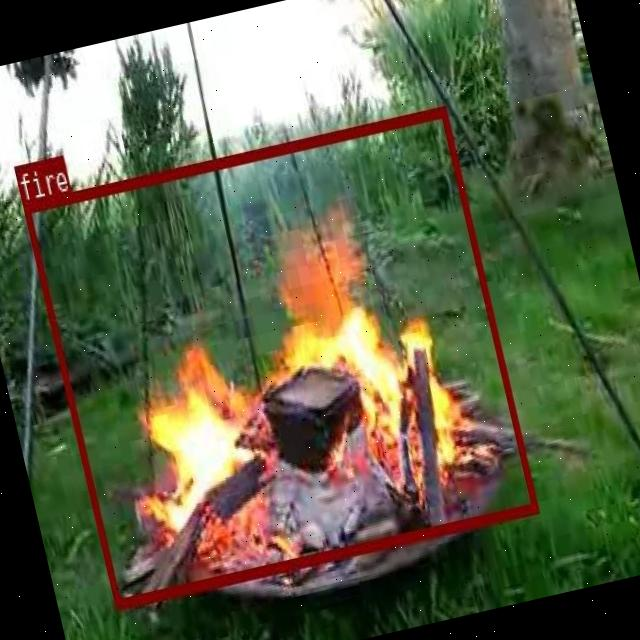fire: (22, 105, 537, 608)
